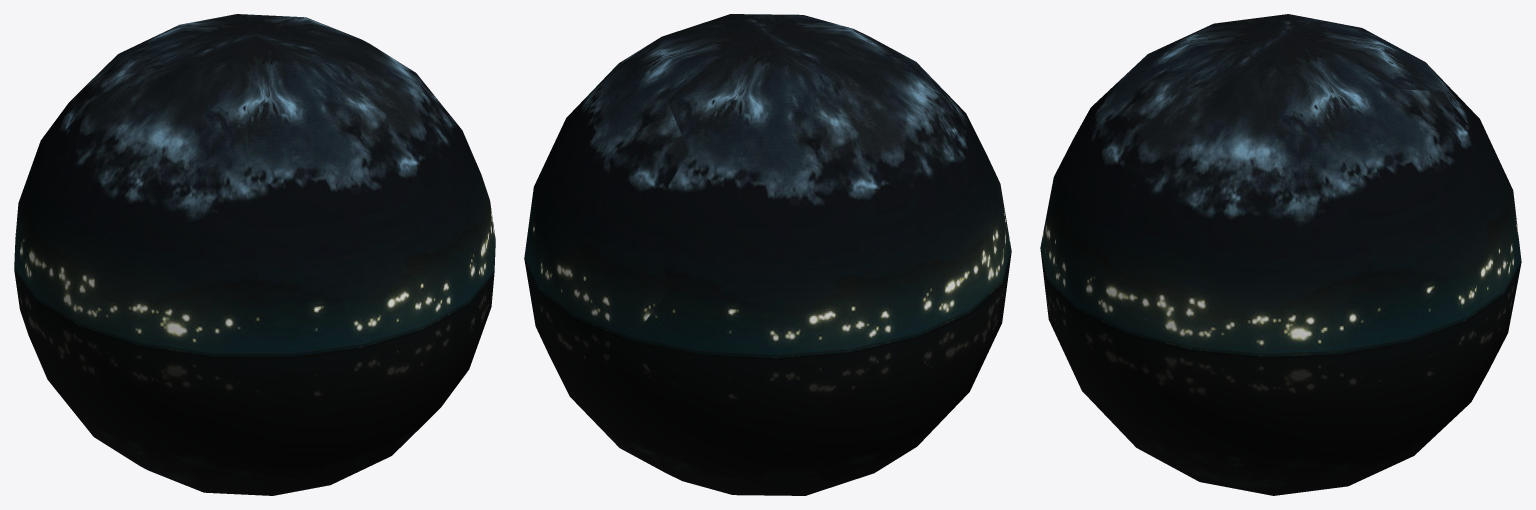
File: skysphere.FBX
3 views of the same model, side by side, from view 1: azimuth 30°, elevation 25°; view 2: azimuth 150°, elevation 25°; view 3: azimuth 270°, elevation 25° (orthographic).
Parts seen in each view (by area): view 1: sky; view 2: sky; view 3: sky.
Boxes of the visible parts, x1,y1,x2,y2 form: sky: [14, 14, 495, 495]; sky: [524, 14, 1011, 495]; sky: [1040, 14, 1521, 495].
Bounding box in the file's own units: 11198 × 11224 × 11198.
1 material, 1 textured.
